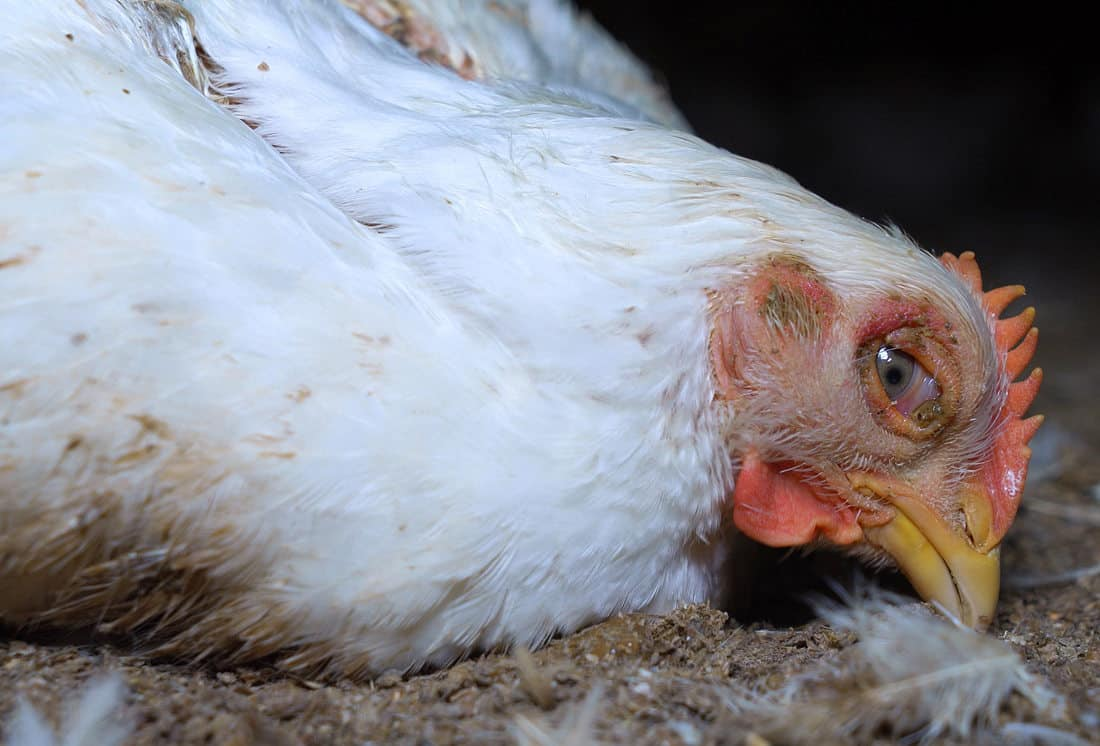Unhealthy: (598, 120, 1053, 695)
